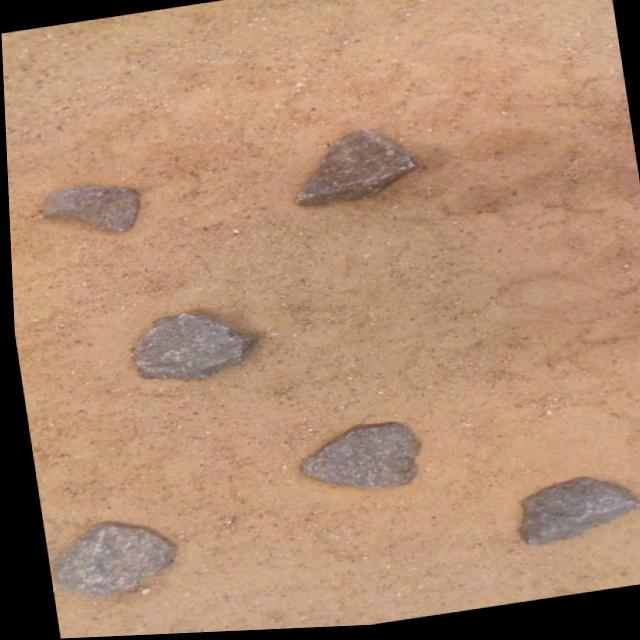rock: (292, 132, 415, 207), (48, 522, 168, 596), (514, 481, 637, 548), (131, 313, 250, 380), (296, 424, 414, 489), (41, 184, 136, 230)
